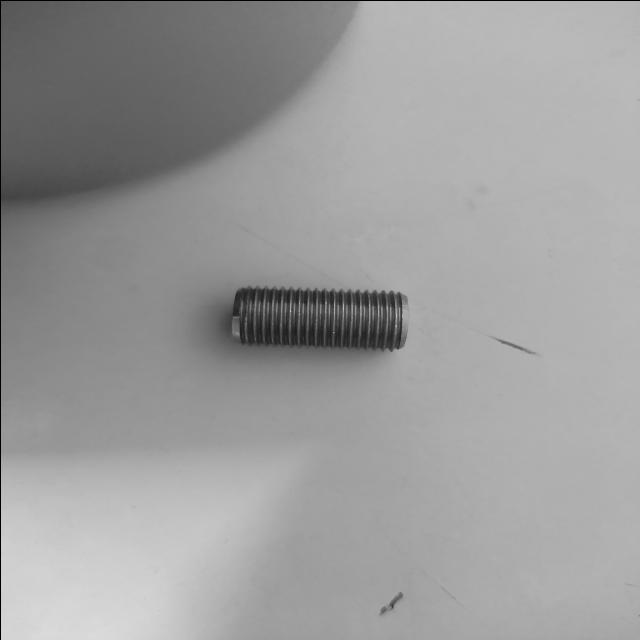Normal: (230, 284, 408, 352)
